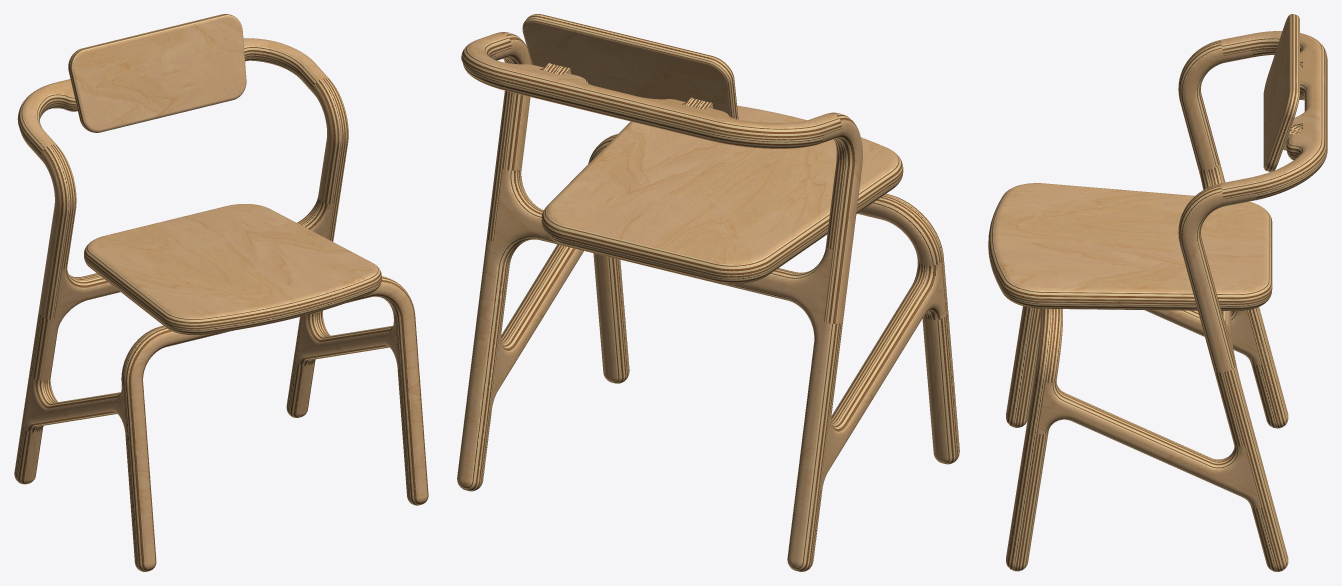
Rendered from side-chair.glb.
The picture shows the model from 3 angles, left to right: view 1: azimuth 30°, elevation 25°; view 2: azimuth 150°, elevation 25°; view 3: azimuth 270°, elevation 25°; orthographic projection. The views are drawn at different scales.
Visible parts, largest first — view 1: Side Chair.001; view 2: Side Chair.001; view 3: Side Chair.001.
Part boxes in pixels (x1=…): Side Chair.001: x1=14, y1=14, x2=428, y2=571; Side Chair.001: x1=457, y1=14, x2=959, y2=571; Side Chair.001: x1=988, y1=14, x2=1327, y2=571.
Size of the model in its own units: 0.58 by 0.7885 by 0.5439.
Materials: 2 (2 with a texture image).
